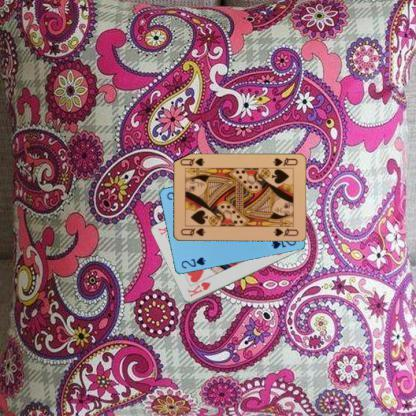2s: (178, 255, 206, 270)
Kh: (184, 280, 212, 298)
Qs: (271, 156, 298, 168), (178, 226, 206, 237)
